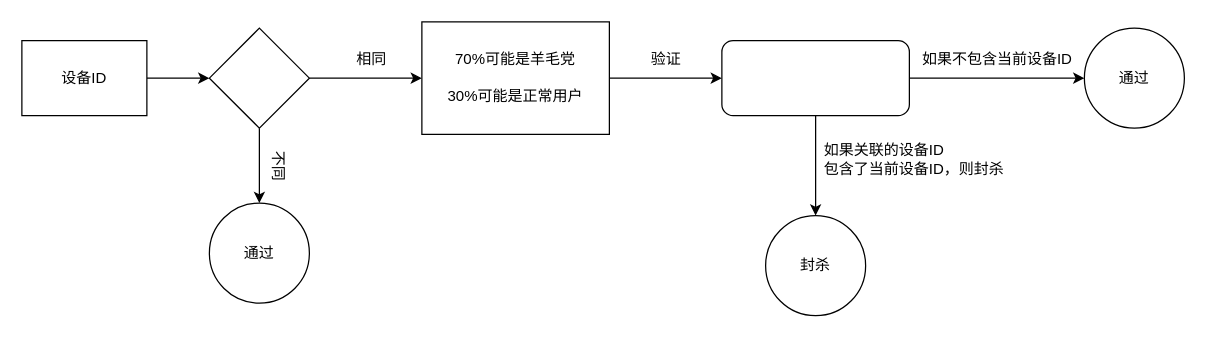
Image size: 1206x338. Some labels were removed from this diagram. The centre of each missing label's shape, as x and y in pixels:
"是否相同" belongs at point (258, 77).
"通过银行卡号查询关联的所有用户的设备ID" belongs at point (815, 77).
